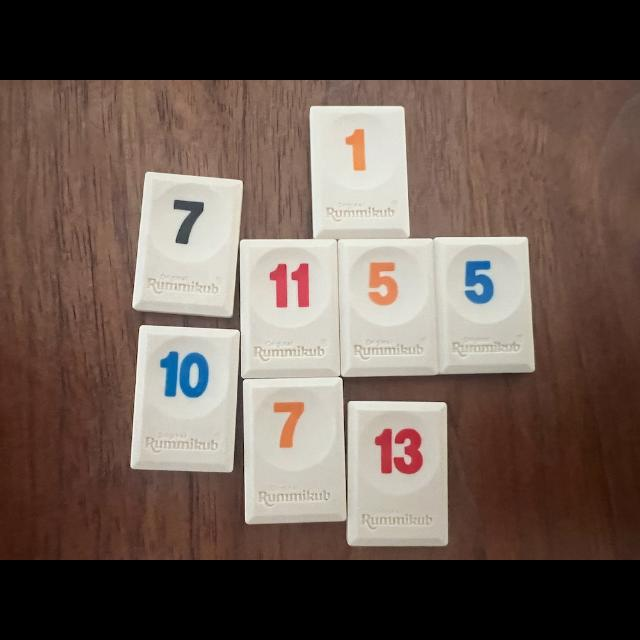black_7: (132, 172, 242, 318)
blue_10: (130, 325, 240, 472)
blue_5: (434, 239, 535, 374)
orange_1: (311, 107, 410, 239)
orange_5: (339, 241, 438, 375)
orange_7: (244, 378, 346, 524)
red_11: (240, 240, 340, 379)
red_13: (346, 401, 446, 545)
